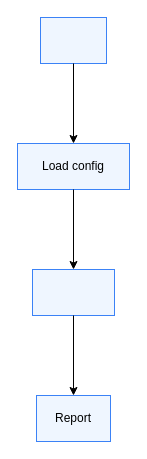
Some shapes in this 147 by 459 pixel diagram are drawn without their labels. The shapes that lost their labels are listed below. From the top down, each one's box as (x1, y1, x2, y2) in pixels, then its label:
(40, 16, 106, 64): Start
(32, 268, 114, 316): Run job
